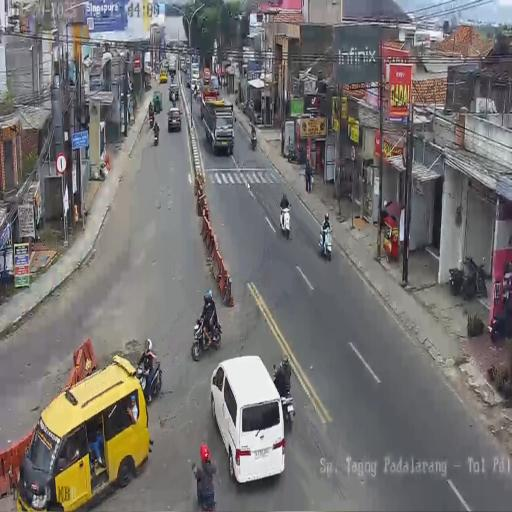car: (17, 352, 152, 509), (210, 355, 285, 483), (168, 106, 182, 132), (210, 75, 219, 91), (159, 70, 168, 83), (180, 58, 187, 72), (204, 68, 210, 84), (186, 62, 190, 75)
motorcycle: (191, 311, 223, 361), (137, 354, 162, 404), (490, 294, 512, 342), (194, 467, 217, 511), (278, 382, 296, 432), (318, 223, 332, 262), (279, 201, 291, 240), (285, 144, 303, 165), (250, 130, 257, 150), (153, 126, 159, 146), (149, 110, 154, 128), (193, 83, 198, 100)
truck: (201, 92, 234, 156), (191, 61, 199, 82), (168, 53, 176, 73), (162, 58, 169, 72)
